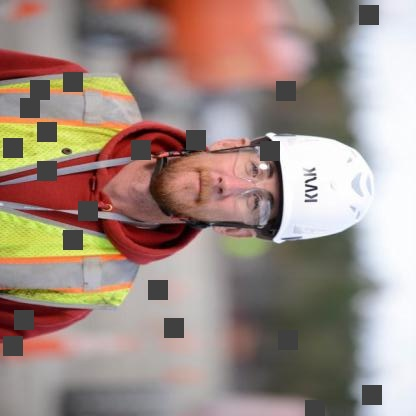vest: (1, 75, 152, 318)
white: (265, 128, 380, 247)
